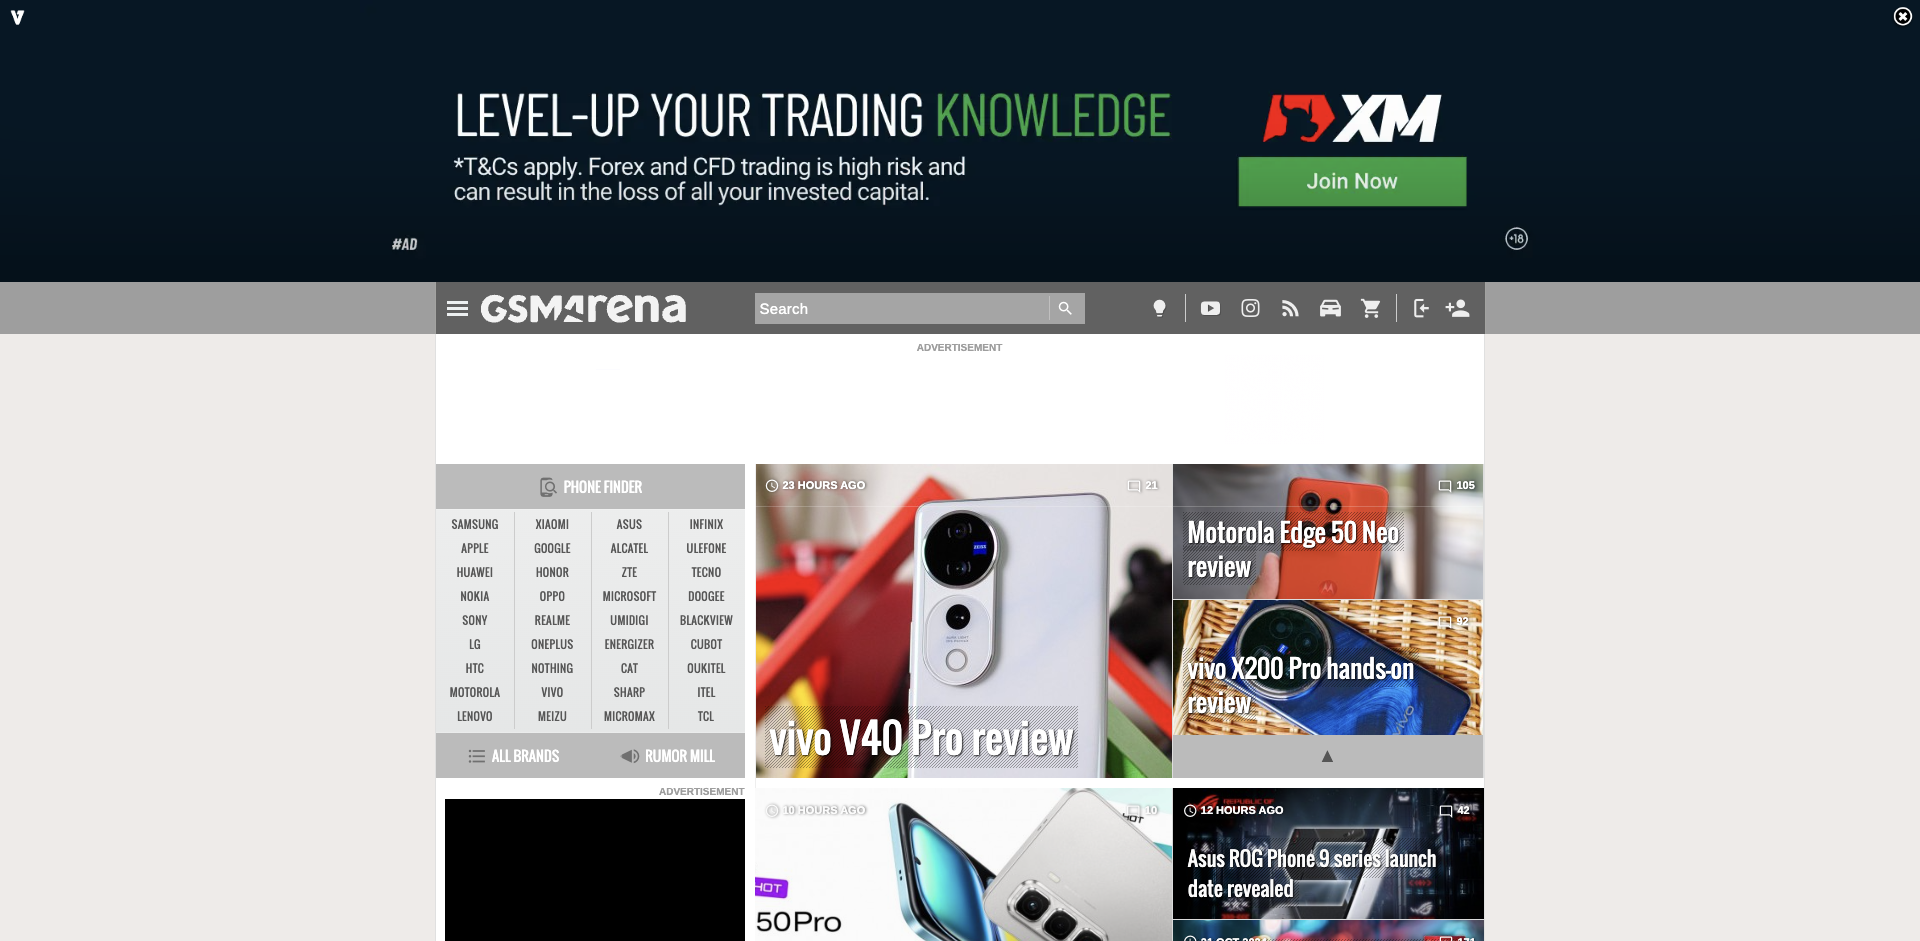button: (441, 282, 474, 330)
input: (754, 293, 1085, 323), (1048, 293, 1085, 323)
link: (754, 788, 1172, 941), (1173, 788, 1484, 919), (436, 464, 744, 510), (1173, 735, 1483, 778), (436, 733, 590, 778), (590, 733, 744, 778), (1173, 920, 1484, 941), (436, 512, 513, 538), (436, 537, 513, 562), (436, 560, 513, 586), (436, 584, 513, 610), (436, 608, 513, 633), (436, 632, 513, 658), (436, 657, 513, 682), (436, 680, 513, 706), (436, 705, 513, 730), (514, 512, 590, 538), (514, 537, 590, 562), (514, 560, 590, 586), (514, 584, 590, 610), (514, 608, 590, 633), (514, 632, 590, 658), (514, 657, 590, 682), (514, 680, 590, 706), (514, 705, 590, 730), (591, 512, 667, 538), (591, 537, 667, 562), (591, 560, 667, 586), (591, 584, 667, 610), (591, 608, 667, 633), (591, 632, 667, 658), (591, 657, 667, 682), (591, 680, 667, 706), (591, 705, 667, 730), (669, 512, 744, 538), (669, 537, 744, 562), (669, 560, 744, 586), (669, 584, 744, 610), (669, 608, 744, 633), (669, 632, 744, 658), (669, 657, 744, 682), (669, 680, 744, 706), (669, 705, 743, 730), (1190, 294, 1231, 322), (1231, 294, 1271, 322), (1310, 294, 1351, 322), (1351, 294, 1391, 322), (1140, 294, 1179, 322), (1271, 294, 1310, 322), (1402, 294, 1440, 322), (1440, 292, 1478, 320), (1127, 473, 1167, 497), (1438, 473, 1478, 497), (1438, 609, 1478, 633), (1125, 799, 1166, 822), (1439, 799, 1478, 822), (1439, 930, 1478, 941)
